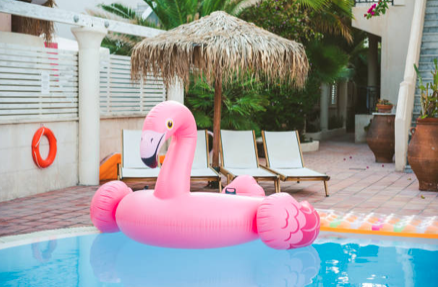Flamingo: (87, 100, 320, 251)
